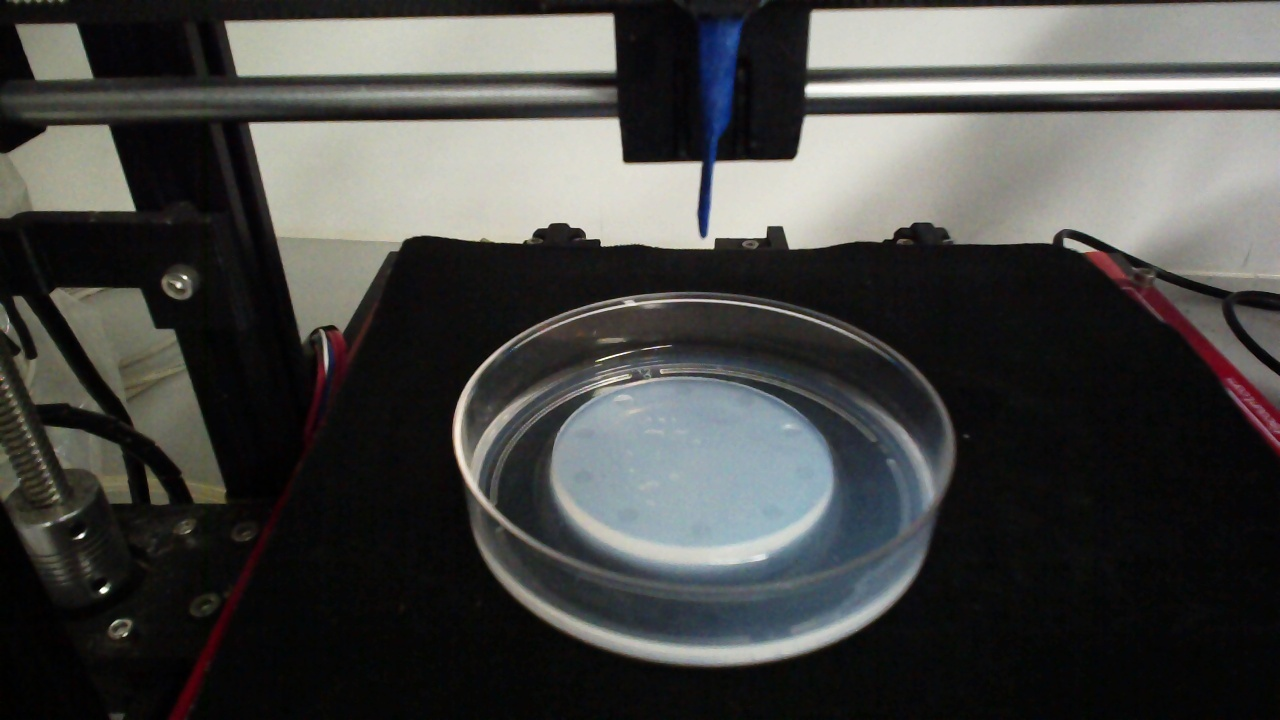groove: (614, 505, 641, 524), (685, 520, 711, 539), (792, 462, 815, 480), (761, 503, 782, 522), (572, 466, 594, 484), (779, 424, 803, 439), (734, 391, 755, 408), (570, 425, 593, 440), (673, 382, 695, 396), (612, 394, 635, 407)
needle: (698, 23, 745, 237)
